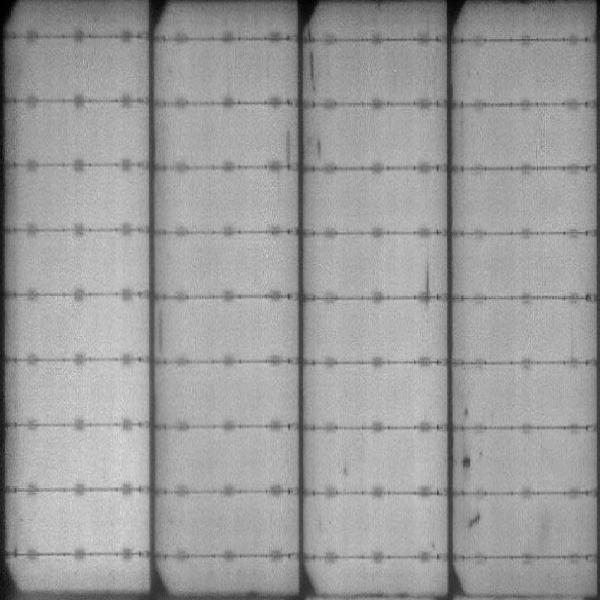scratch: (280, 125, 296, 178), (307, 35, 319, 105), (153, 310, 169, 354), (420, 258, 433, 310)
